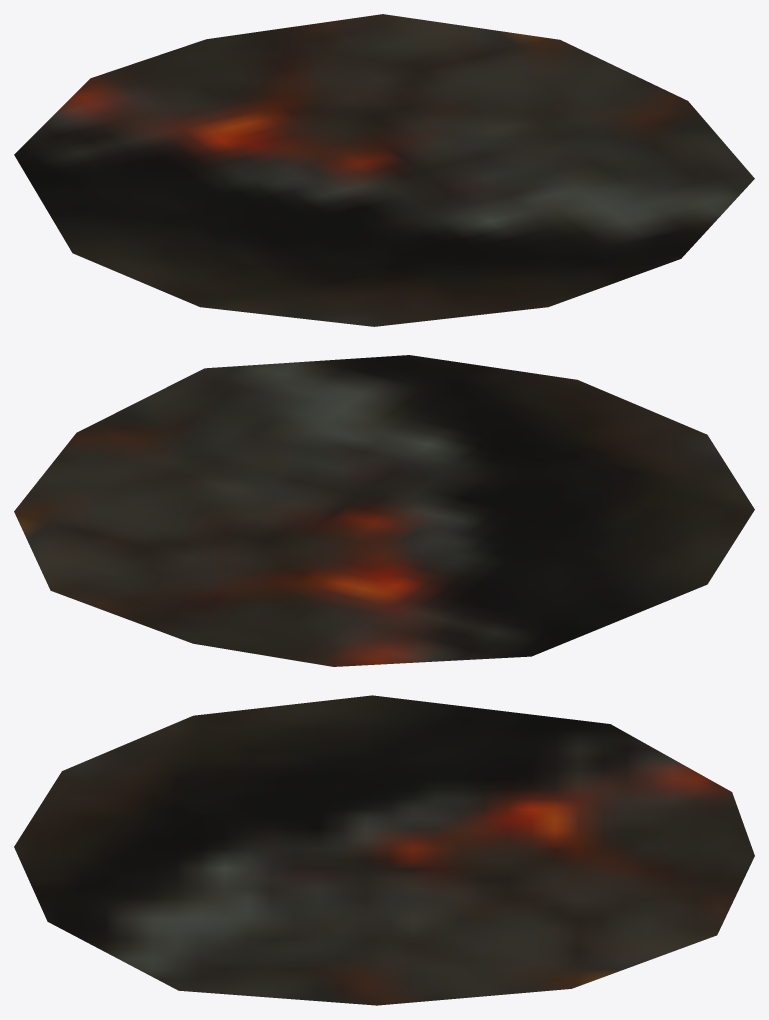
Rendered from crater_04.FBX.
3 renders of one model, top to bottom at view 1: azimuth 30°, elevation 25°; view 2: azimuth 150°, elevation 25°; view 3: azimuth 270°, elevation 25°, orthographic. The views are drawn at different scales.
Parts seen in each view (by area): view 1: Cylinder027; view 2: Cylinder027; view 3: Cylinder027.
Boxes of the visible parts, x1,y1,x2,y2 form: Cylinder027: (14,14,754,326); Cylinder027: (14,355,754,666); Cylinder027: (14,695,754,1005).
Size of the model in its own units: 369 by 2.28e-14 by 372.
